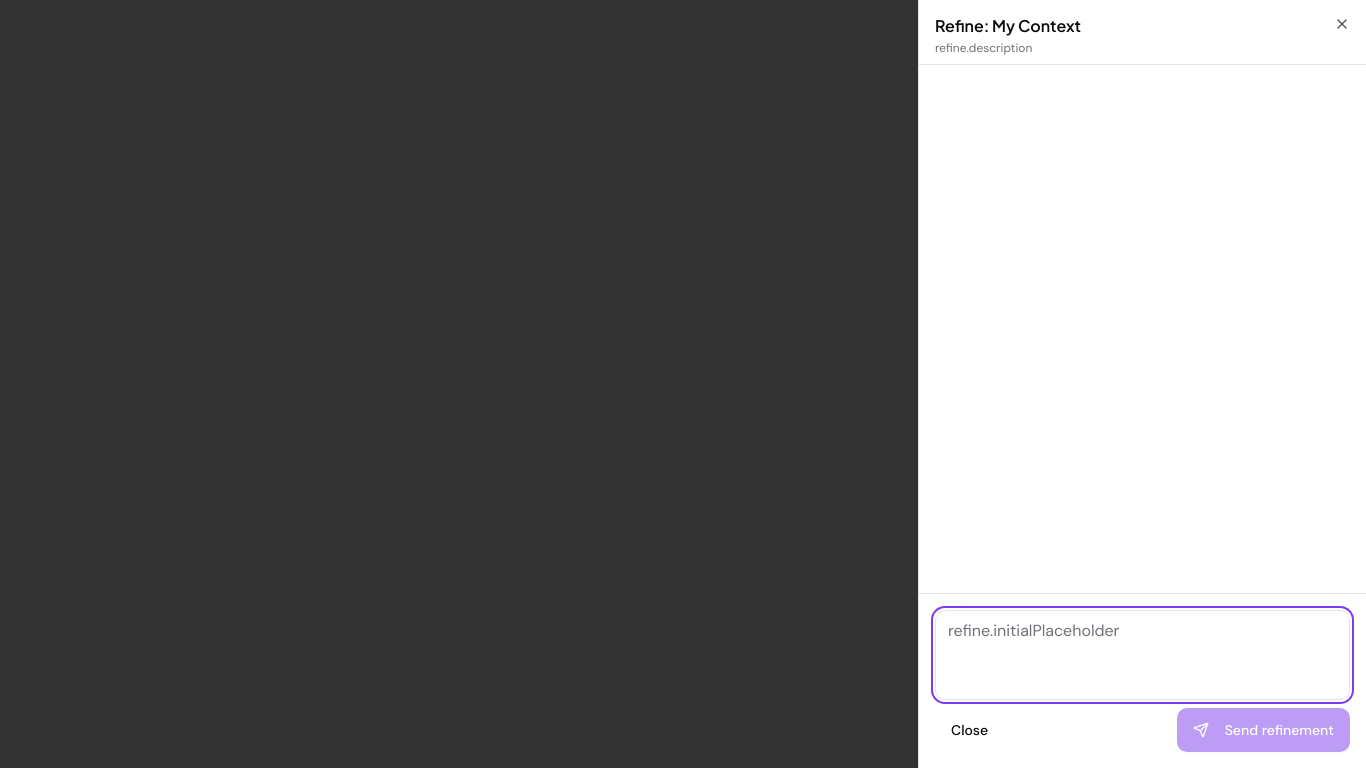
ContextualRefinementPanel › keeps reply textarea visible after assistant responds
The image size is (1366, 768).
In the text box named "Refinement message": x=1142, y=655 x1=935 y1=610 x2=1350 y2=700, type "My approach to ATS"
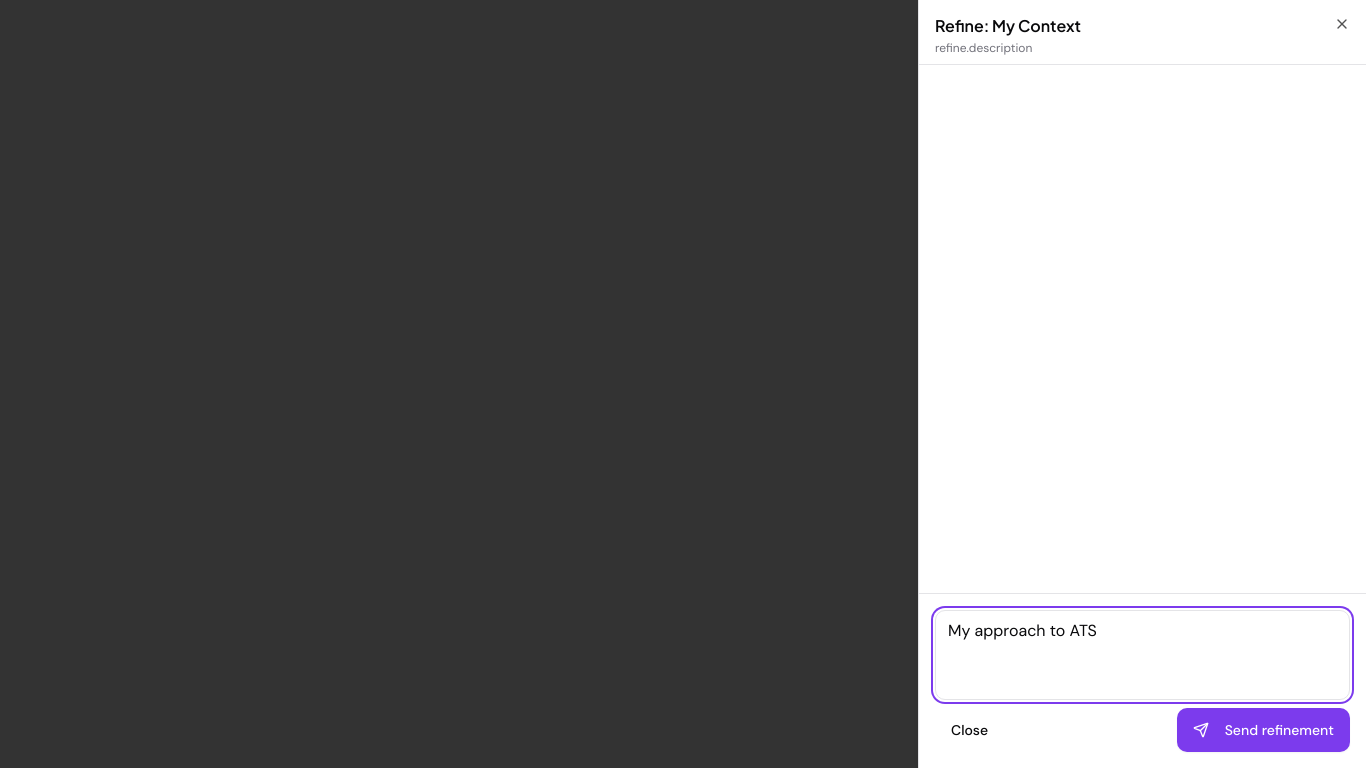
Click the button with aria-label "Send refinement": x=1263, y=730 x1=1177 y1=708 x2=1350 y2=752
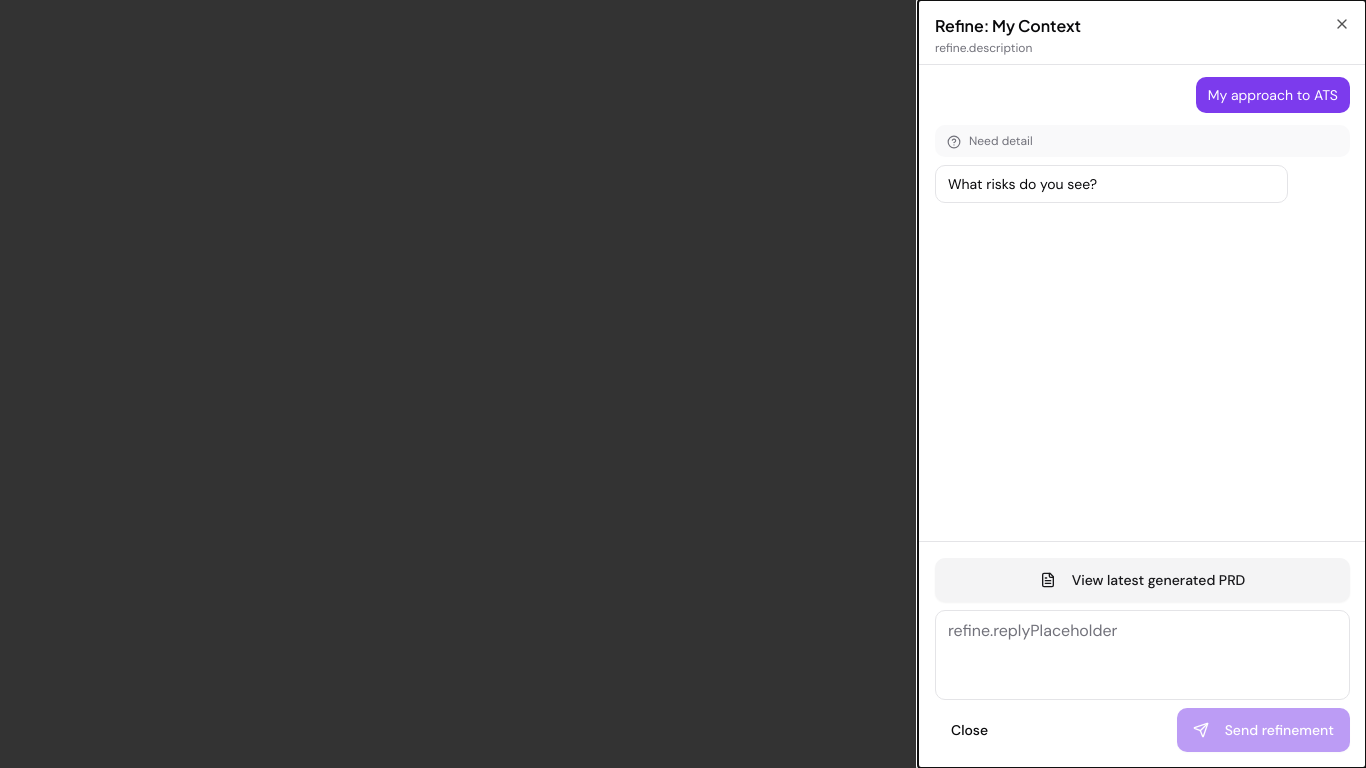
Expected: the text box named "Refinement message" is enabled, x1=935 y1=610 x2=1350 y2=700
Result: the text "View latest generated PRD" is shown at x1=935 y1=558 x2=1350 y2=602
